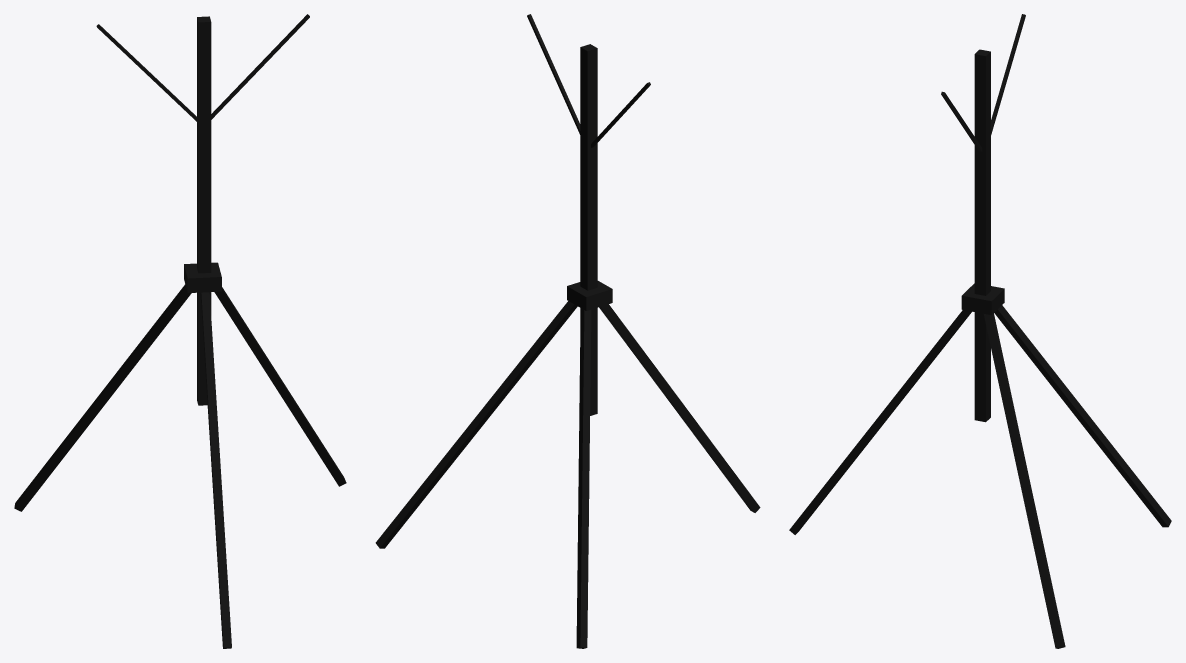
File: tripe.dae
The picture shows the model from 3 angles, left to right: view 1: azimuth 30°, elevation 25°; view 2: azimuth 150°, elevation 25°; view 3: azimuth 270°, elevation 25°; orthographic projection. The views are drawn at different scales.
Parts seen in each view (by area): view 1: pCube58; view 2: pCube58; view 3: pCube58.
Part boxes in pixels (left/top/right/bottom): pCube58: left=14, top=14, right=346, bottom=648; pCube58: left=375, top=14, right=760, bottom=648; pCube58: left=789, top=14, right=1171, bottom=648.
Bounding box in the file's own units: 3.14 × 5.86 × 3.94.
